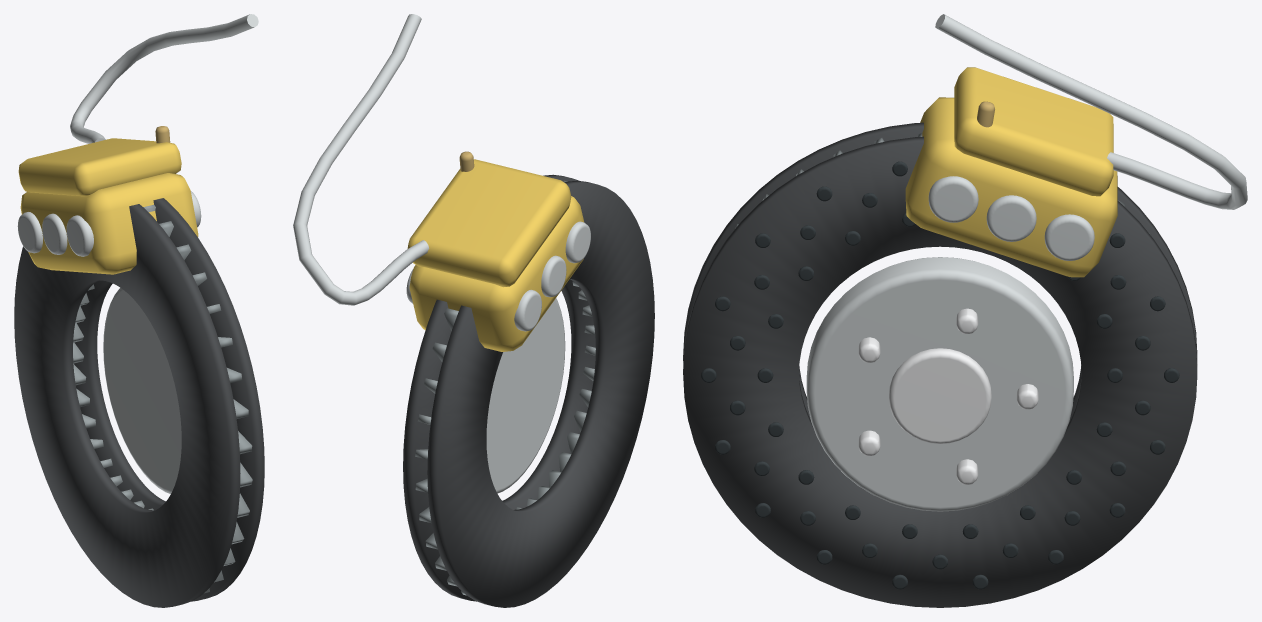
File: brakes_ceramic.fbx
3 views of the same model, side by side, from view 1: azimuth 30°, elevation 25°; view 2: azimuth 150°, elevation 25°; view 3: azimuth 270°, elevation 25° (orthographic). The views are drawn at different scales.
Visible parts, largest first — view 1: brakes_ceramic; view 2: brakes_ceramic; view 3: brakes_ceramic.
Boxes of the visible parts, x1=… form: brakes_ceramic: x1=14, y1=14, x2=264, y2=607; brakes_ceramic: x1=293, y1=14, x2=654, y2=607; brakes_ceramic: x1=683, y1=14, x2=1247, y2=607.
Bounding box in the file's own units: 17.91 × 51.48 × 40.63.
